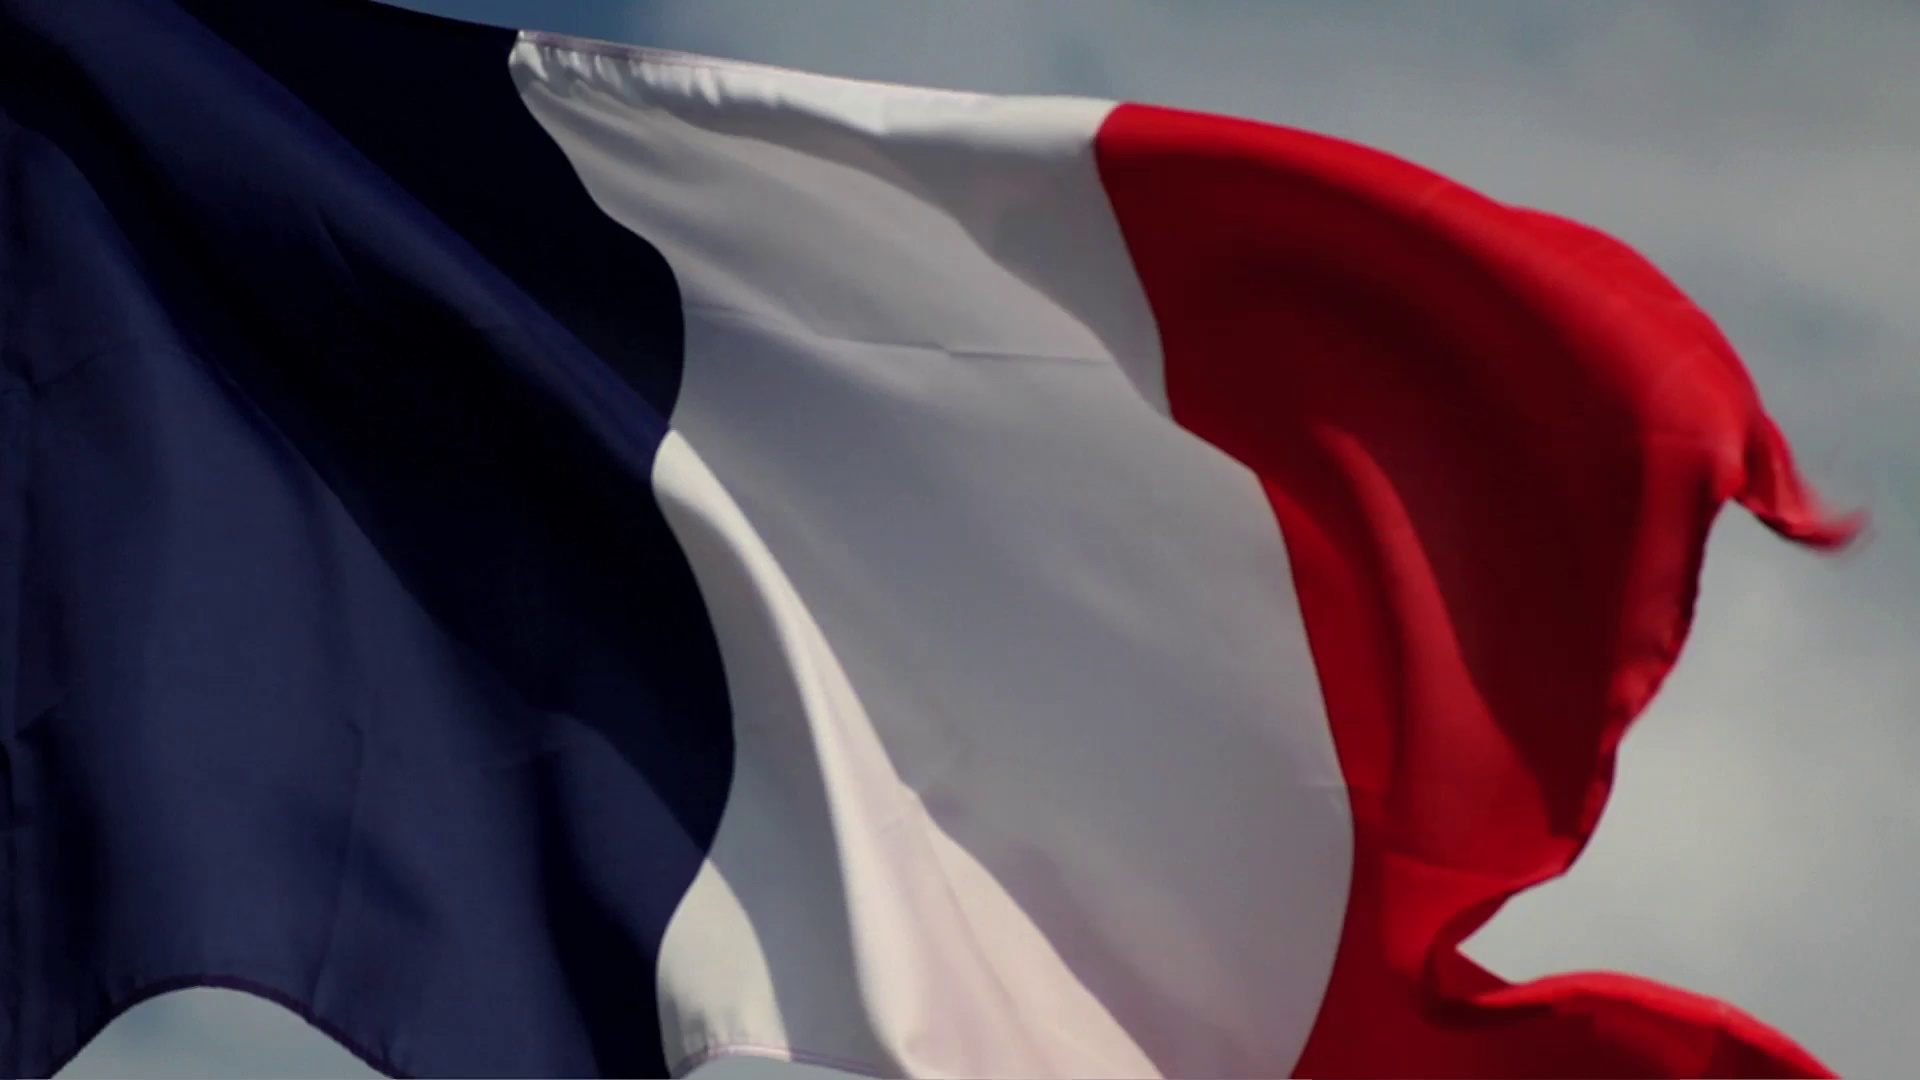French Flag: (1, 1, 1847, 1076)
